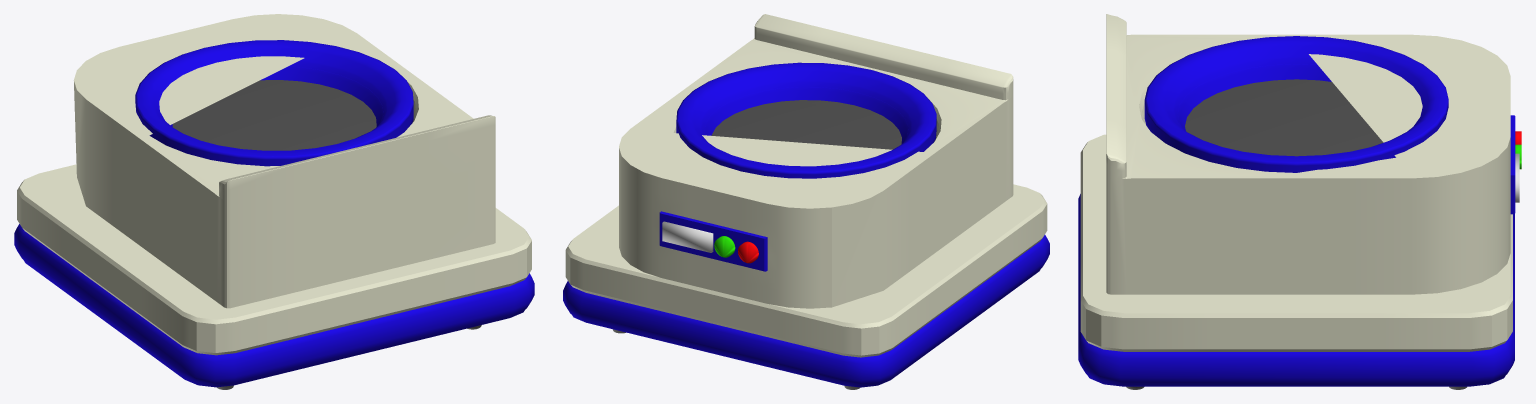
File: DesbastadoraModelV5.fbx
3 renders of one model, left to right at view 1: azimuth 30°, elevation 25°; view 2: azimuth 150°, elevation 25°; view 3: azimuth 270°, elevation 25°, orthographic. The views are drawn at different scales.
Parts seen in each view (by area): view 1: Body, Base, CubreLija, Rotor; view 2: Body, Base, CubreLija, Rotor, Caratula, Display; view 3: Body, CubreLija, Base, Rotor, Caratula.
Part boxes in pixels (x1,y1,x2,y2): Body: (17, 14, 531, 355); Base: (14, 224, 534, 387); CubreLija: (135, 40, 413, 166); Rotor: (172, 80, 376, 150); Body: (565, 14, 1047, 357); Base: (563, 235, 1049, 387); CubreLija: (676, 62, 936, 178); Rotor: (711, 100, 901, 149); Caratula: (659, 211, 767, 271); Display: (662, 221, 713, 252); Body: (1080, 14, 1512, 351); CubreLija: (1144, 36, 1448, 172); Base: (1078, 194, 1514, 386); Rotor: (1185, 79, 1383, 156); Caratula: (1510, 115, 1515, 214).
Bounding box in the file's own units: 1022 × 610 × 1037.
